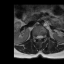CCS_normal: (39, 33, 41, 42)
LFS_normal: (43, 32, 45, 39)
LLS_normal: (41, 32, 43, 40)
RFS_normal: (34, 33, 36, 41)
RLS_normal: (36, 33, 39, 40)
